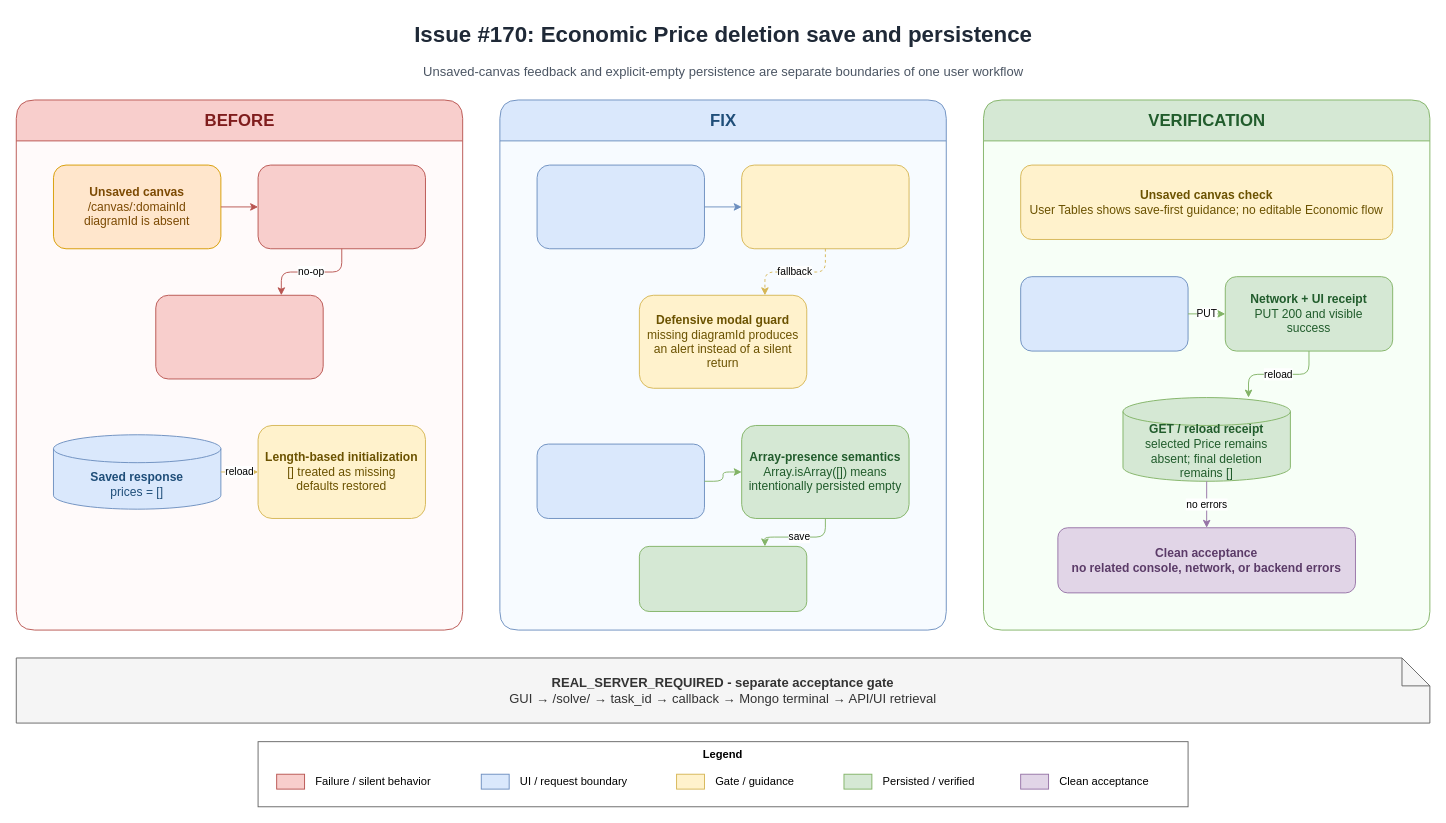
Image size: 1446x823. Some labels were removed from this diagram. Here are the shapes that lost their labels. From the top down, the centre of each, then its label:
point 341,206: Economic modal Save returns before persistence
point 620,206: Header save-first gate Economic entry disabled while diagramId is absent
point 825,206: Visible guidance Save the diagram before editing Economic data
point 1104,313: Saved diagram check delete selected or final Price, then Save
point 239,336: Silent outcome no request, no feedback, deletion not persisted
point 620,480: Saved diagram delete selected or final Price
point 722,578: Scoped persistence PUT /api/data/diagrams/:diagramId/costs
